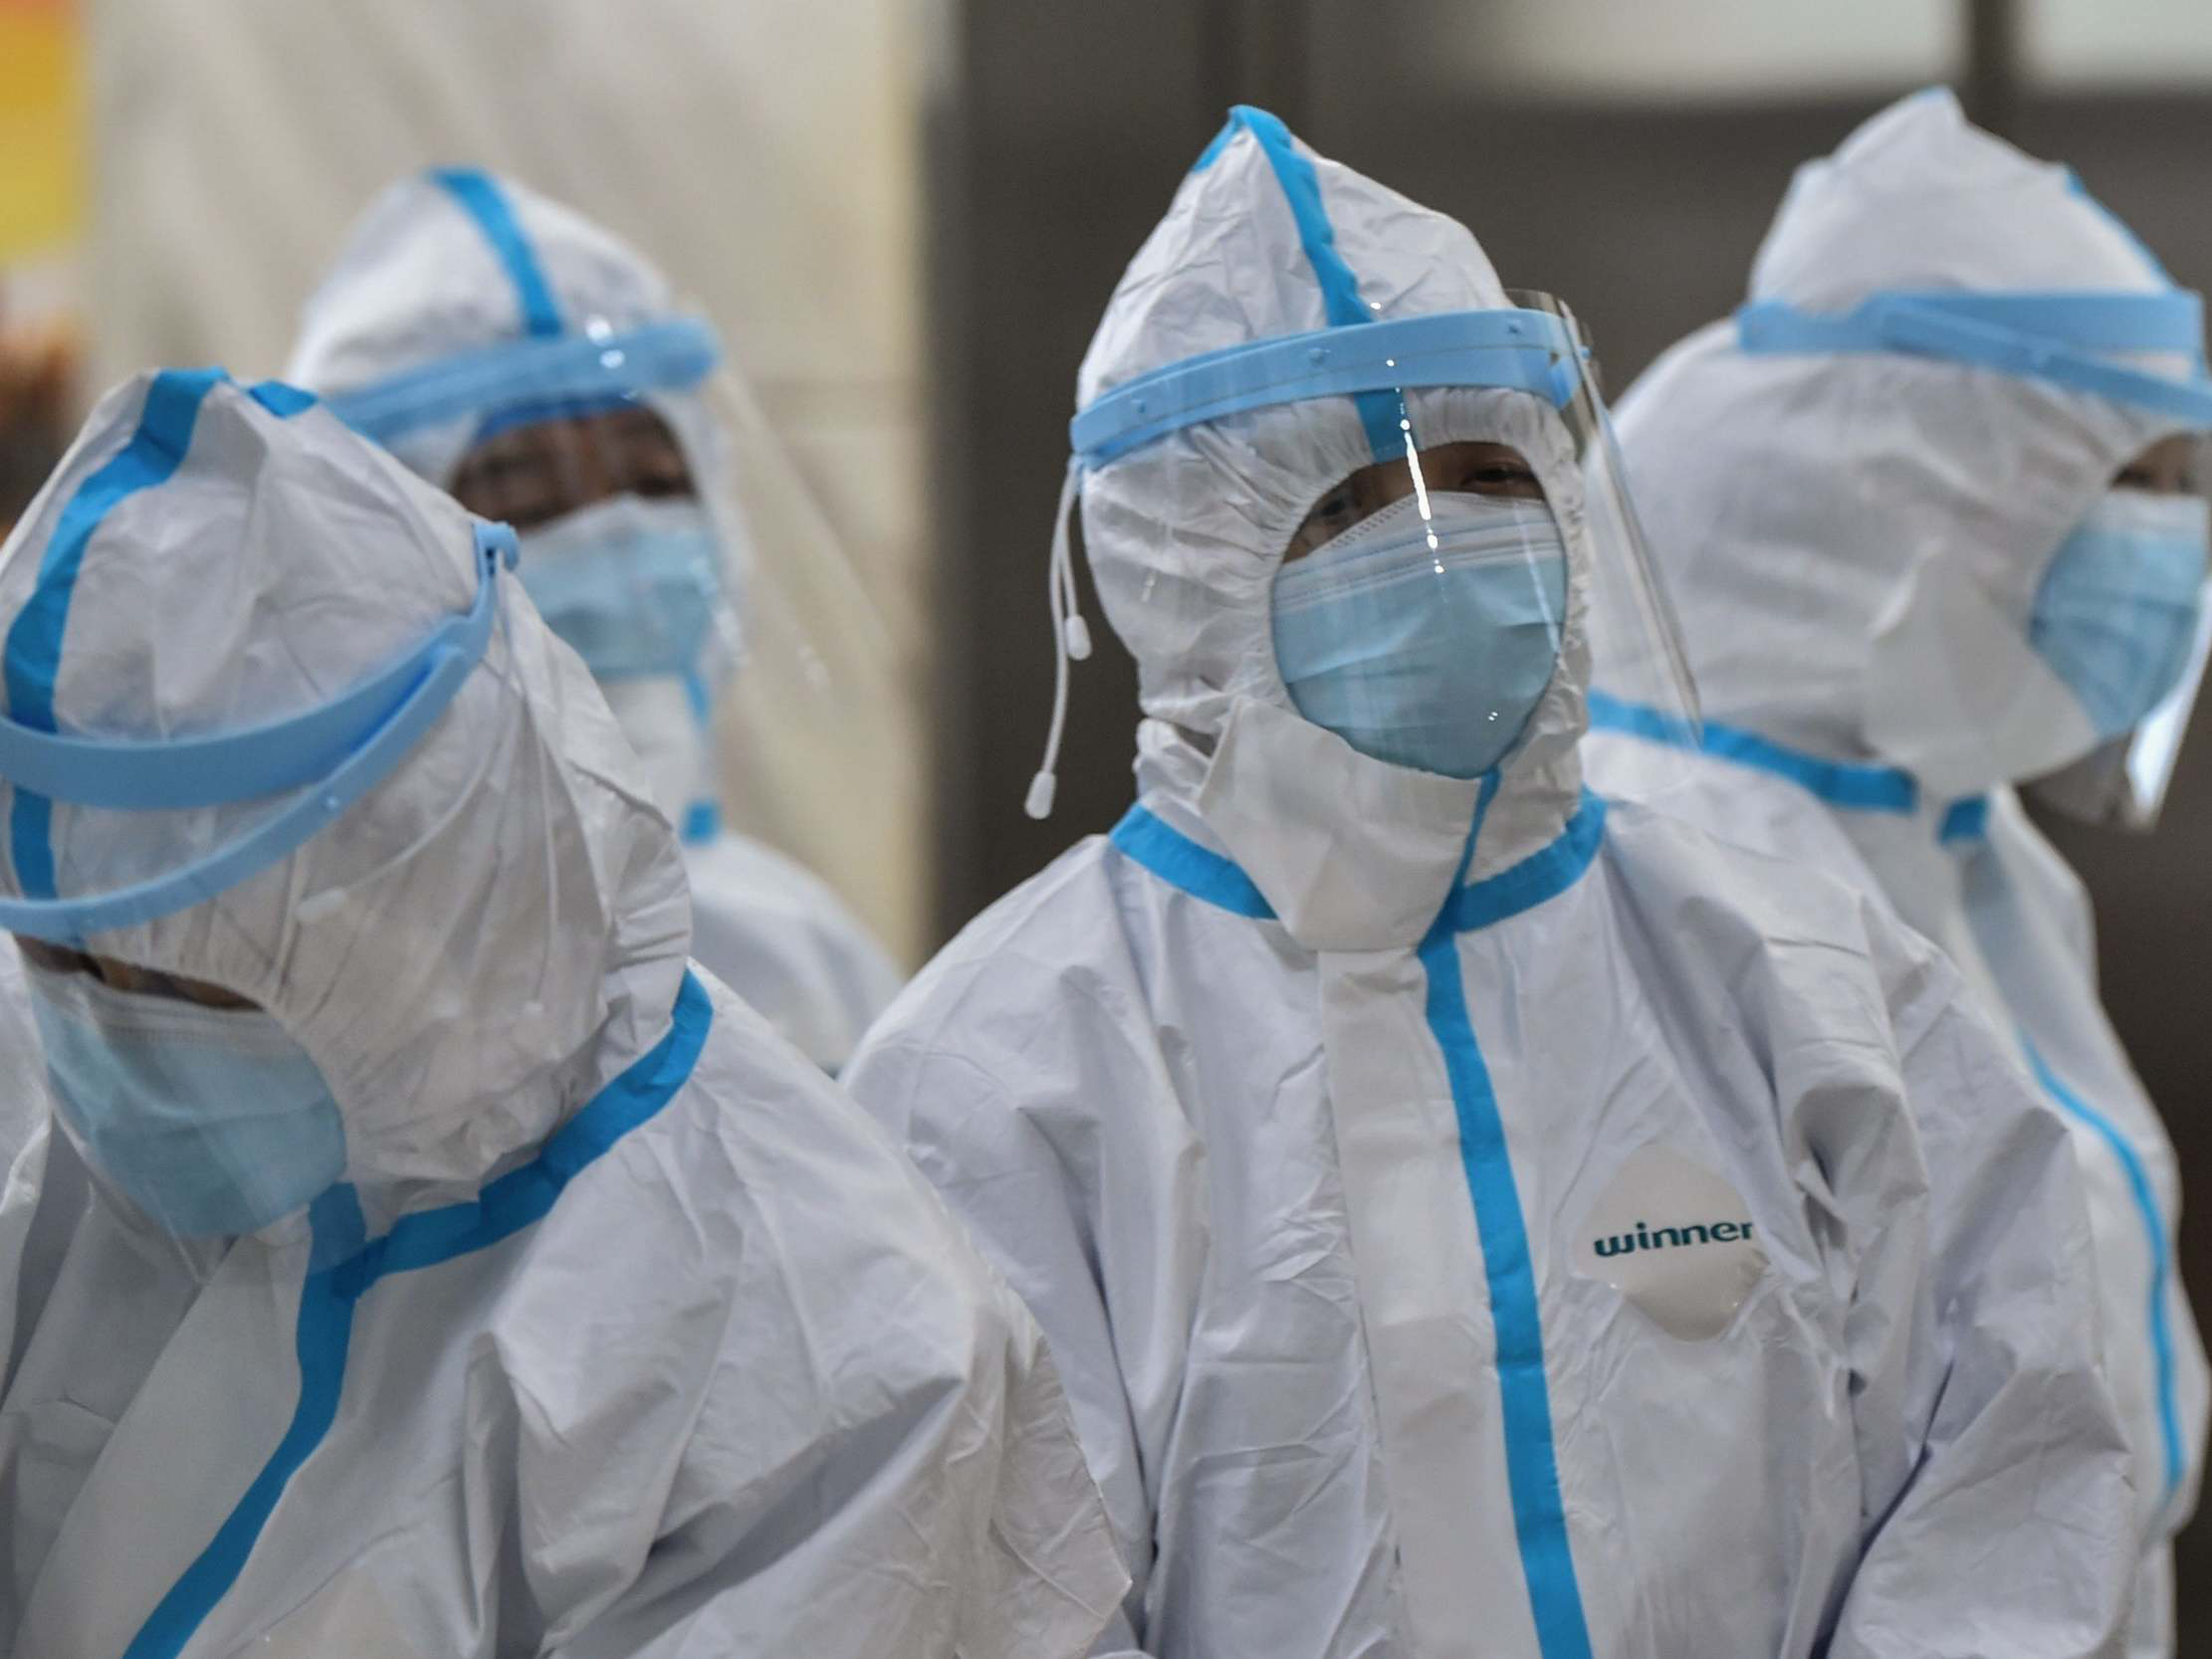Coverall: (849, 99, 2137, 1659), (10, 356, 1066, 1659), (1603, 94, 2212, 1488), (287, 163, 899, 1023)
Face_Shield: (1071, 293, 1721, 817), (3, 716, 511, 1315), (333, 331, 913, 749), (1854, 290, 2212, 835)
with_mask: (1255, 446, 1588, 776), (44, 984, 354, 1240), (478, 452, 719, 675), (2043, 444, 2212, 728)
